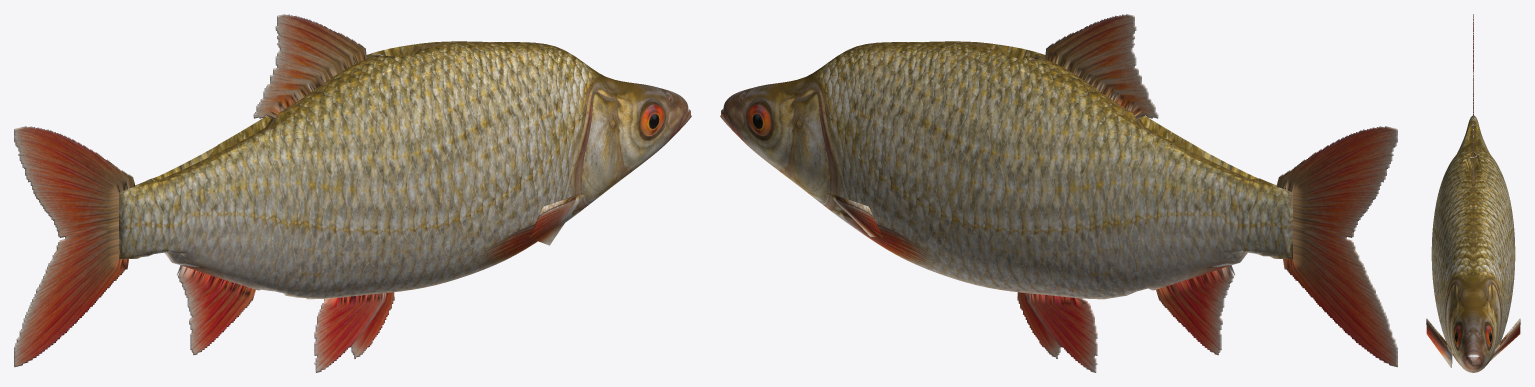
File: rudd.glb
3 views of the same model, side by side, from view 1: azimuth 30°, elevation 25°; view 2: azimuth 150°, elevation 25°; view 3: azimuth 270°, elevation 25° (orthographic). The views are drawn at different scales.
Visible parts, largest first — view 1: rudd_realistic.004; view 2: rudd_realistic.004; view 3: rudd_realistic.004.
Boxes of the visible parts, x1=… form: rudd_realistic.004: x1=14, y1=14, x2=691, y2=372; rudd_realistic.004: x1=720, y1=14, x2=1397, y2=372; rudd_realistic.004: x1=1426, y1=14, x2=1520, y2=372.
Size of the model in its own units: 1 by 0.5173 by 0.1656.
3 materials, 3 textured.
